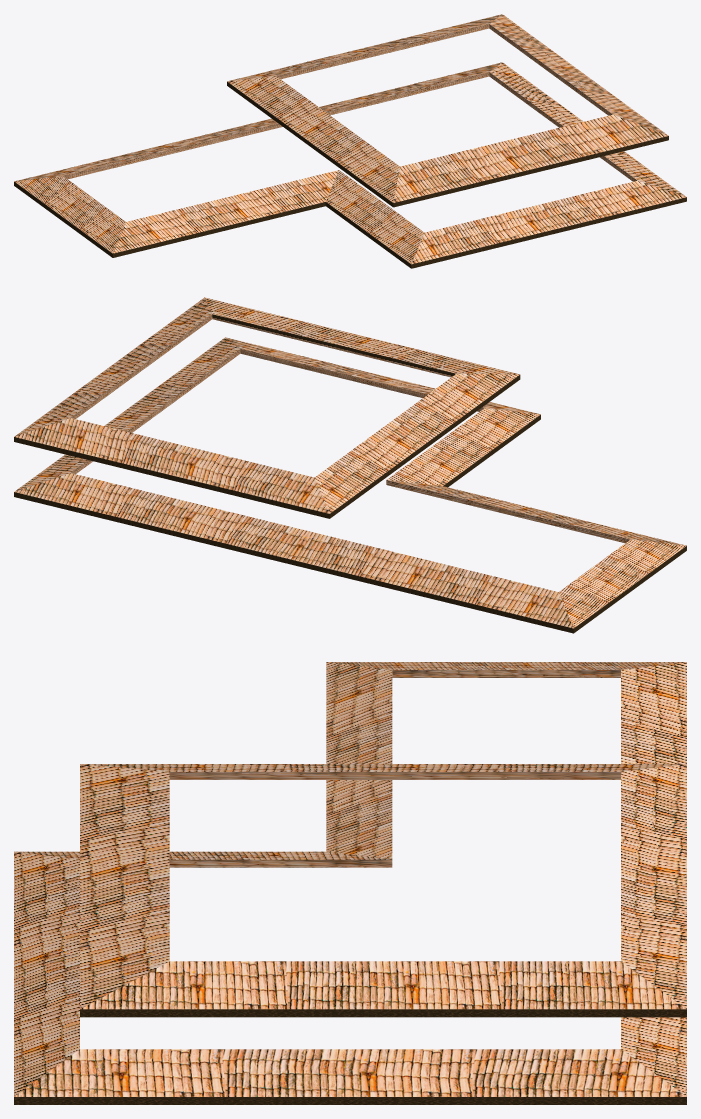
File: tejas.obj
3 renders of one model, top to bottom at view 1: azimuth 30°, elevation 25°; view 2: azimuth 150°, elevation 25°; view 3: azimuth 270°, elevation 25°, orthographic. The views are drawn at different scales.
Parts seen in each view (by area): view 1: Cube.028, Cube.022, Cube.011, Cube.024, Cube.004, Cube.012, Cube.029, Cube.023, Cube.027, Cube.010, Cube.021; view 2: Cube.027, Cube.010, Cube.021, Cube.024, Cube.028, Cube.004, Cube.012, Cube.029, Cube.023, Cube.011, Cube.022; view 3: Cube.023, Cube.029, Cube.028, Cube.022, Cube.027, Cube.011, Cube.024, Cube.010, Cube.012, Cube.004, Cube.021.
Boxes of the visible parts, left/top/right/bottom form: Cube.028: left=393, top=114, right=668, bottom=207; Cube.022: left=411, top=180, right=686, bottom=268; Cube.011: left=113, top=170, right=338, bottom=257; Cube.024: left=227, top=76, right=399, bottom=206; Cube.004: left=325, top=170, right=424, bottom=268; Cube.012: left=14, top=176, right=125, bottom=257; Cube.029: left=489, top=14, right=667, bottom=135; Cube.023: left=489, top=62, right=685, bottom=196; Cube.027: left=228, top=14, right=501, bottom=81; Cube.010: left=15, top=121, right=280, bottom=181; Cube.021: left=263, top=62, right=501, bottom=127; Cube.027: left=14, top=418, right=329, bottom=518; Cube.010: left=289, top=531, right=573, bottom=633; Cube.021: left=14, top=473, right=309, bottom=563; Cube.024: left=314, top=373, right=520, bottom=518; Cube.028: left=204, top=297, right=518, bottom=377; Cube.004: left=387, top=408, right=540, bottom=487; Cube.012: left=558, top=539, right=686, bottom=633; Cube.029: left=14, top=297, right=212, bottom=436; Cube.023: left=15, top=337, right=240, bottom=491; Cube.011: left=386, top=480, right=685, bottom=545; Cube.022: left=226, top=337, right=539, bottom=414; Cube.023: left=14, top=1049, right=686, bottom=1104; Cube.029: left=80, top=961, right=686, bottom=1017; Cube.028: left=80, top=764, right=169, bottom=1008; Cube.022: left=14, top=851, right=79, bottom=1096; Cube.027: left=621, top=764, right=686, bottom=1008; Cube.011: left=326, top=662, right=392, bottom=859; Cube.024: left=83, top=764, right=684, bottom=779; Cube.010: left=621, top=662, right=686, bottom=763; Cube.012: left=328, top=662, right=685, bottom=677; Cube.004: left=16, top=851, right=392, bottom=867; Cube.021: left=621, top=1017, right=686, bottom=1096.
Size of the model in its own units: 13.77 by 1.71 by 9.01.
Materials: 1 (1 with a texture image).
